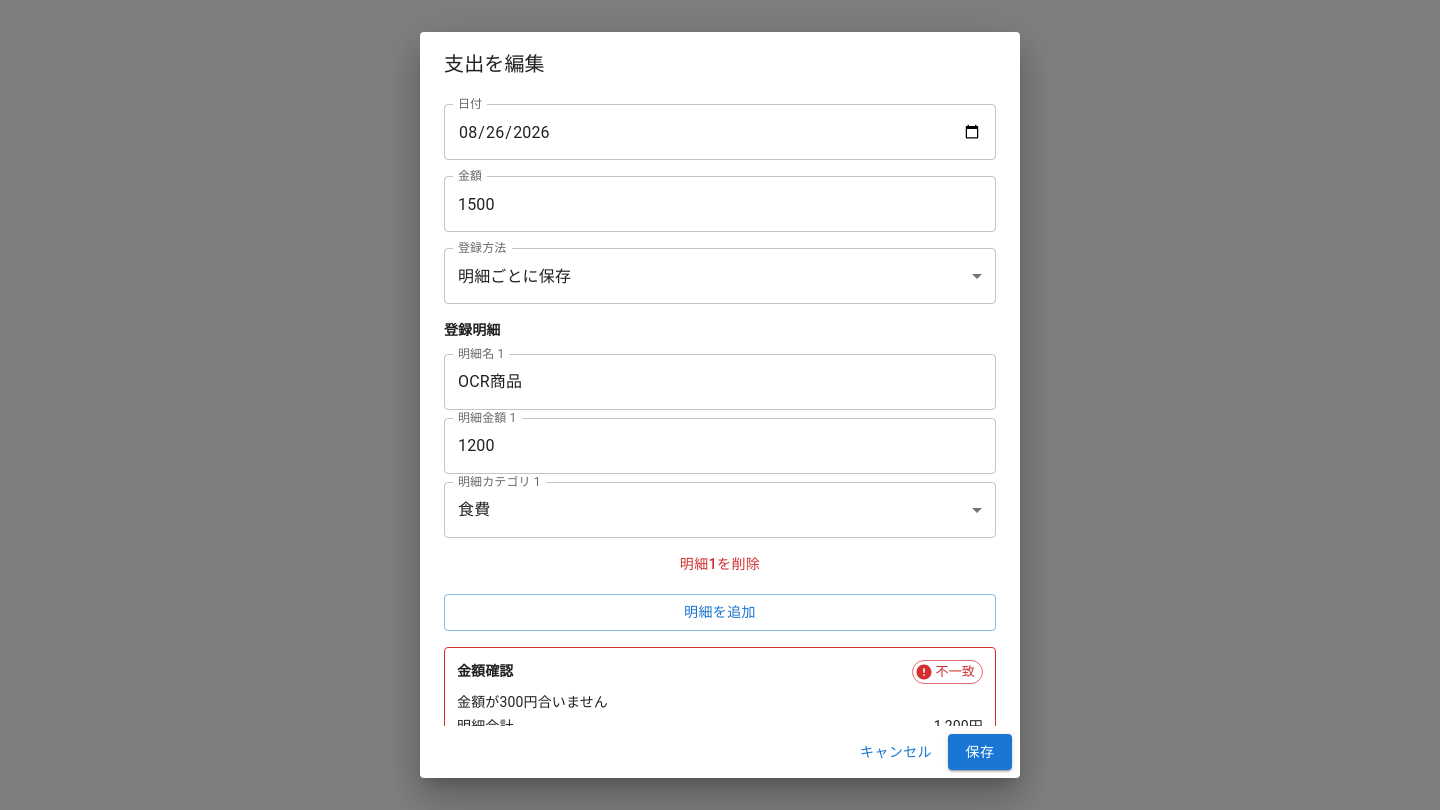
ExpenseEntryEditDialog AI draft history › detailedの通常明細では負号を保持しない
Replace the text in the field labelled "明細金額 1" with "-100" at (720, 446), box [444,418,996,474]
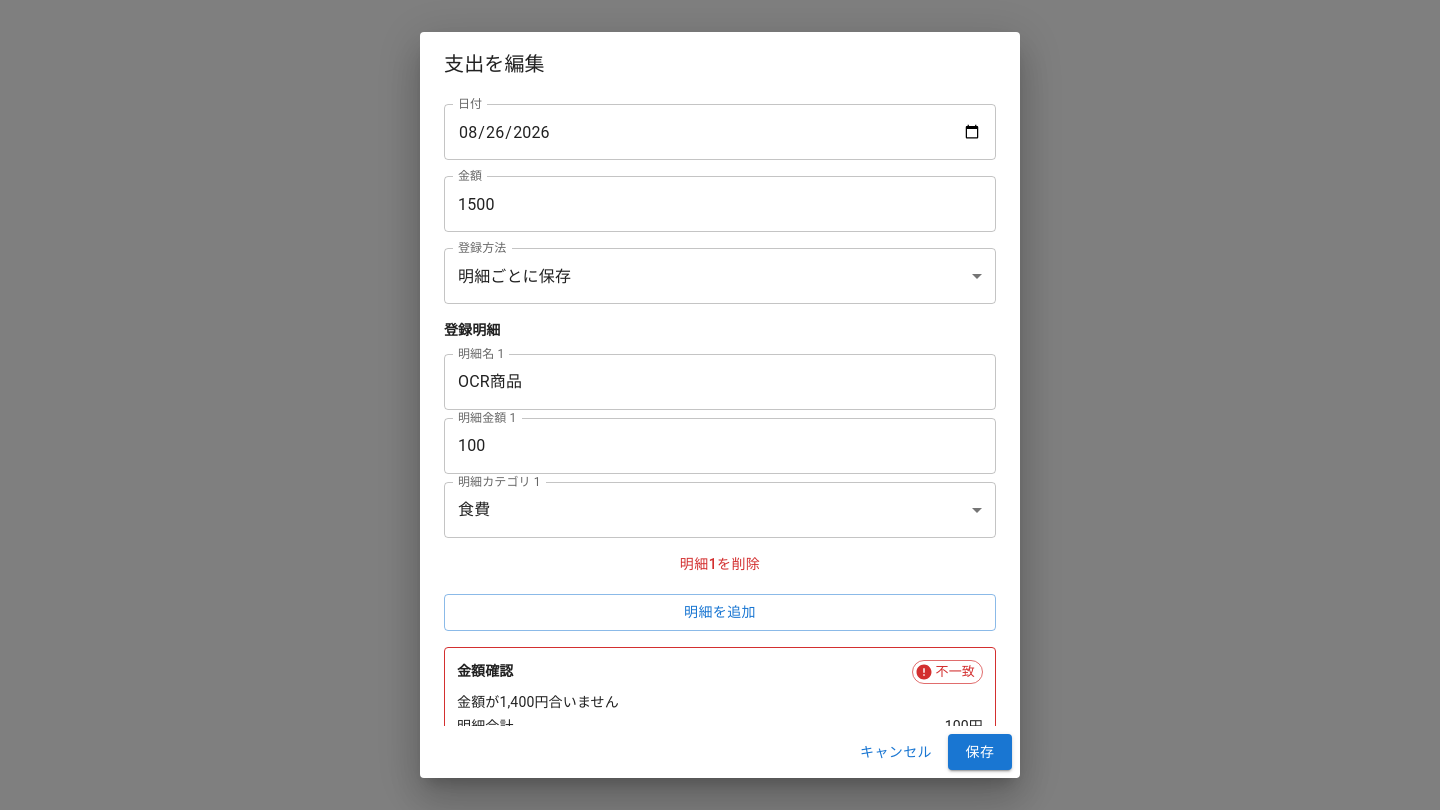
expect the field labelled "明細金額 1" holds "100": met, box [444,418,996,474]
